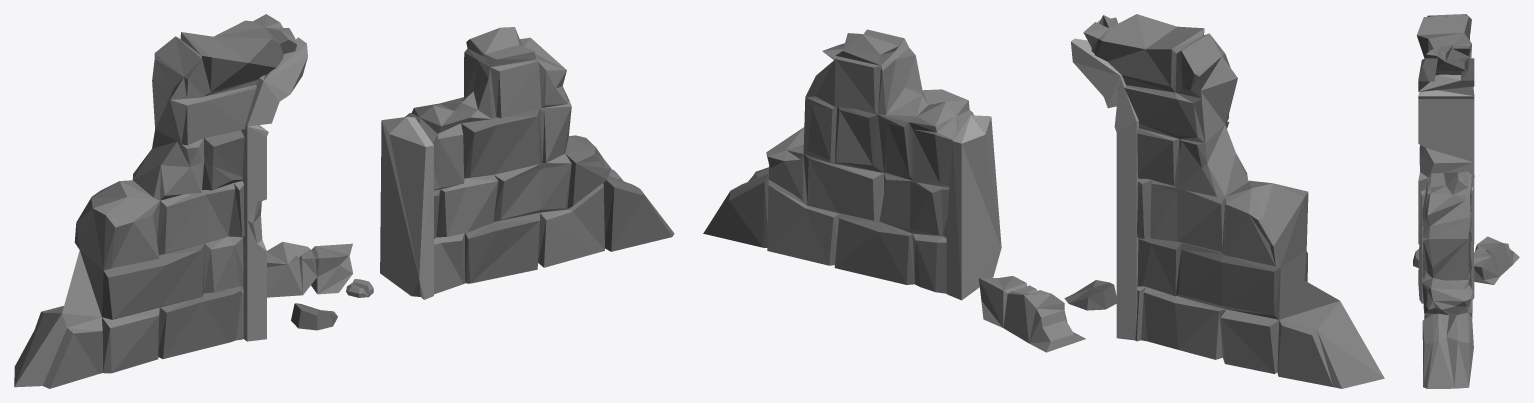
Rendered from _ruin_15.glb.
3 renders of one model, left to right at view 1: azimuth 30°, elevation 25°; view 2: azimuth 150°, elevation 25°; view 3: azimuth 270°, elevation 25°, orthographic. The views are drawn at different scales.
Parts seen in each view (by area): view 1: ruin_15; view 2: ruin_15; view 3: ruin_15.
Boxes of the visible parts, bbox=[...] form: ruin_15: bbox=[14, 14, 674, 388]; ruin_15: bbox=[703, 14, 1384, 388]; ruin_15: bbox=[1413, 14, 1519, 388].
Bounding box in the file's own units: 5.84 × 2.51 × 1.16.
Materials: 1 (1 with a texture image).
